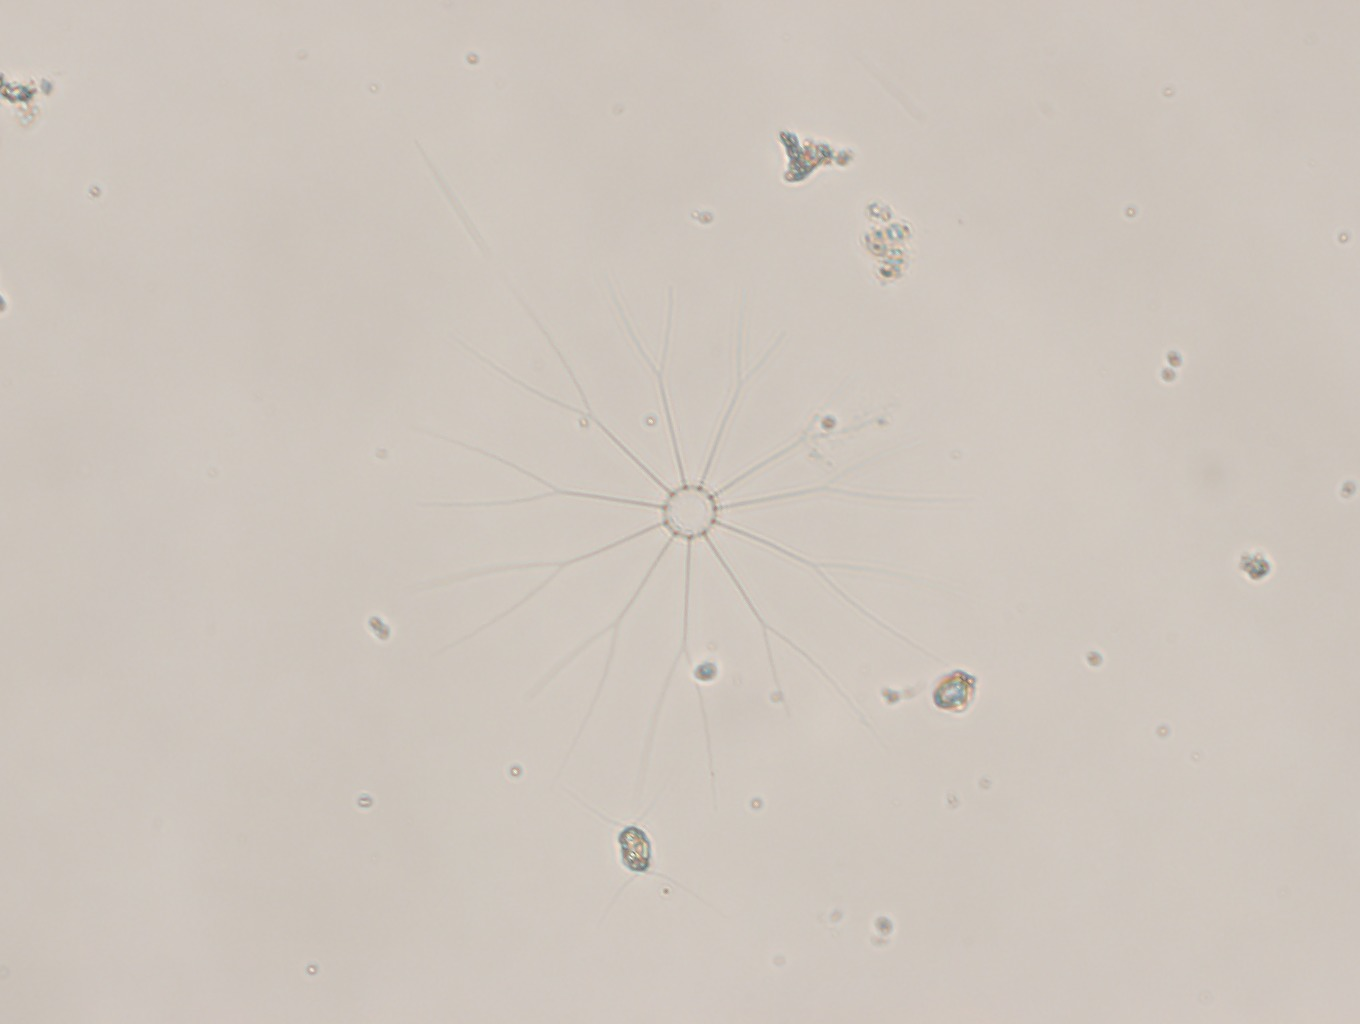bacteriastrum: (416, 274, 932, 769)
